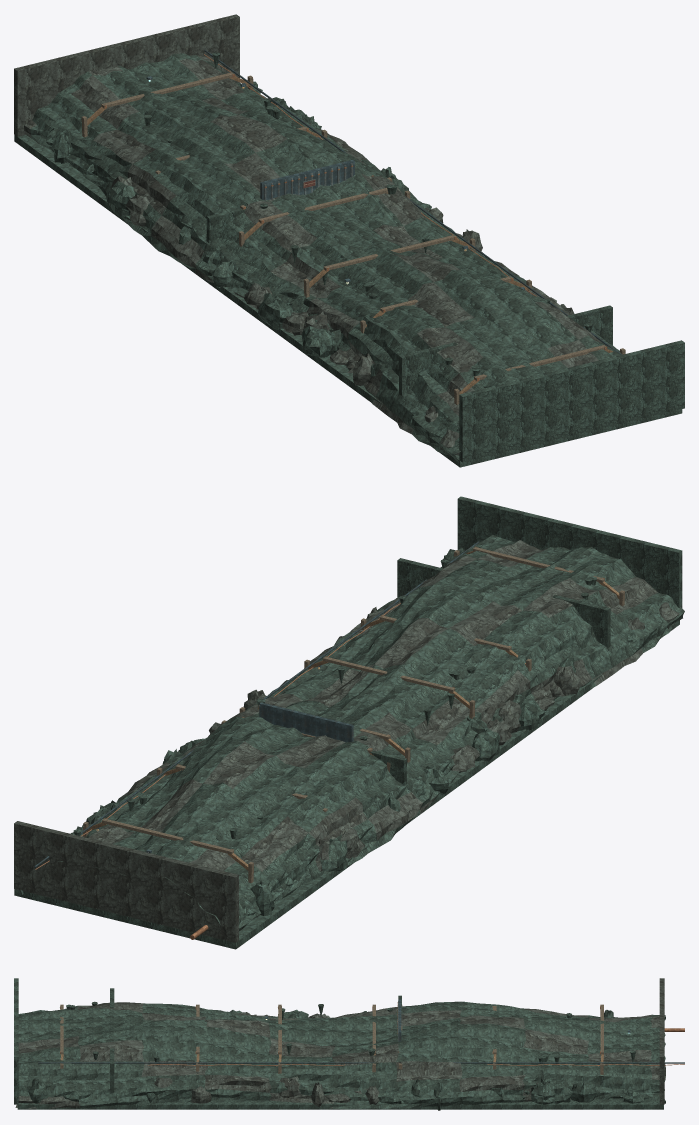
The model's file is chapter4.glb.
3 renders of one model, top to bottom at view 1: azimuth 30°, elevation 25°; view 2: azimuth 150°, elevation 25°; view 3: azimuth 270°, elevation 25°, orthographic. The views are drawn at different scales.
Parts seen in each view (by area): view 1: Gezeitenstollen, Felsgewölbe und Treibholz, PressureGate; view 2: Gezeitenstollen, Felsgewölbe und Treibholz, PressureGate; view 3: Gezeitenstollen, Felsgewölbe und Treibholz.
Part boxes in pixels (<box>): Gezeitenstollen, Felsgewölbe und Treibholz: <box>14,14,684,467</box>; PressureGate: <box>260,160,354,200</box>; Gezeitenstollen, Felsgewölbe und Treibholz: <box>14,496,684,949</box>; PressureGate: <box>259,702,353,742</box>; Gezeitenstollen, Felsgewölbe und Treibholz: <box>14,978,684,1110</box>.
Size of the model in its own units: 18.33 by 5.77 by 61.24.
Materials: 26 (13 with a texture image).
